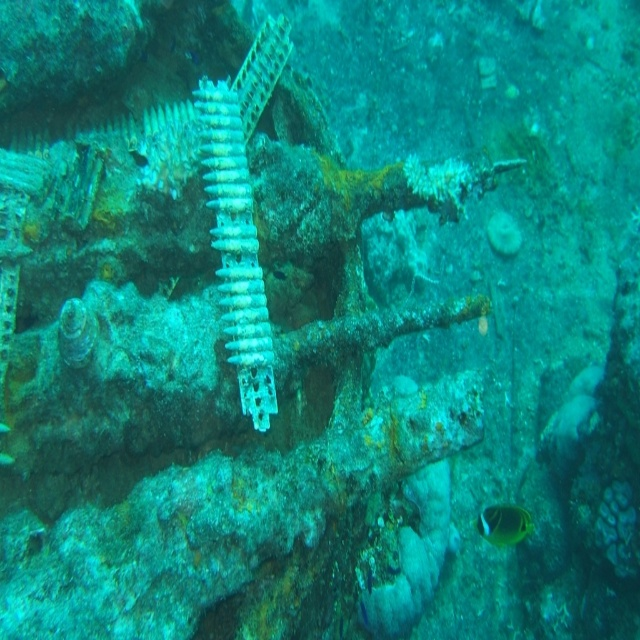Fish: (472, 498, 534, 552)
